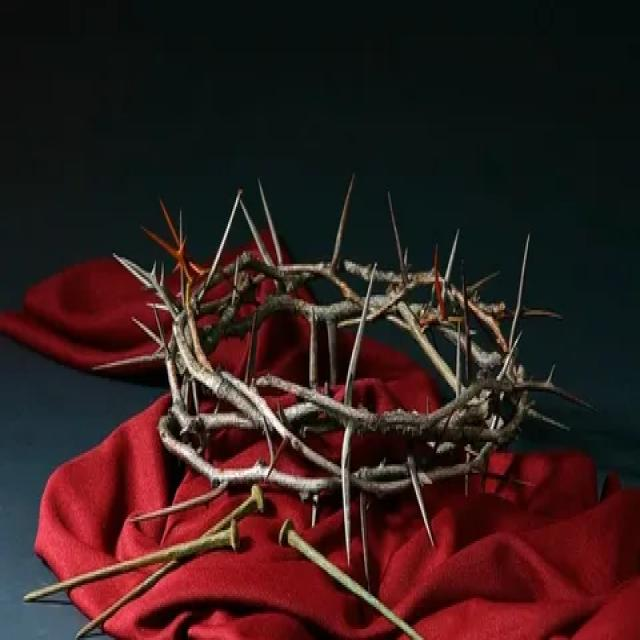crown: (140, 206, 556, 510)
